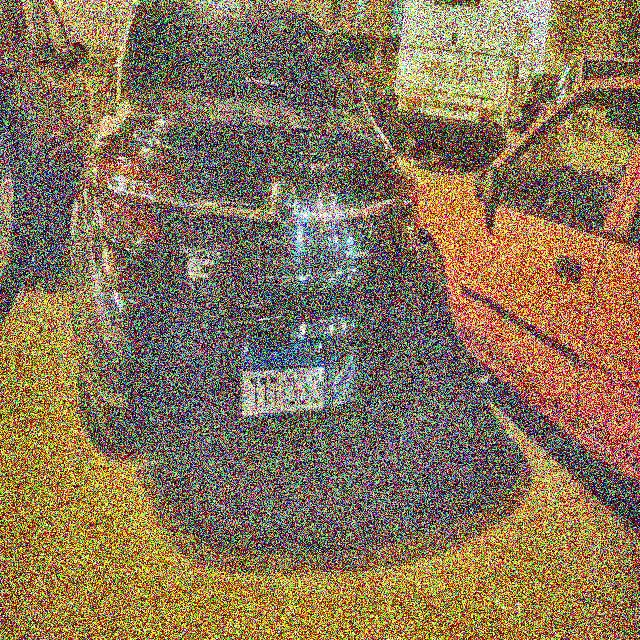License Plate: (237, 333, 329, 423)
